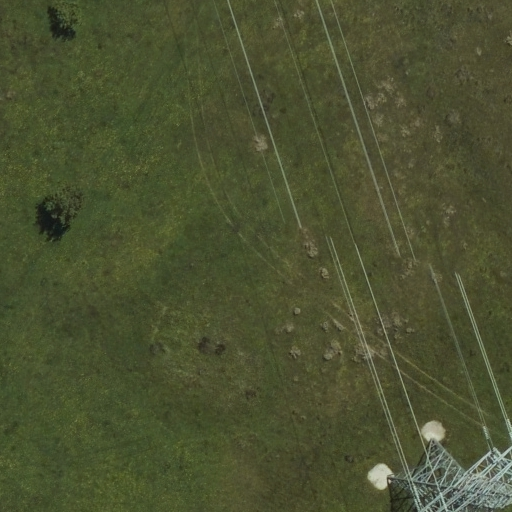TT: (386, 423, 512, 512)
